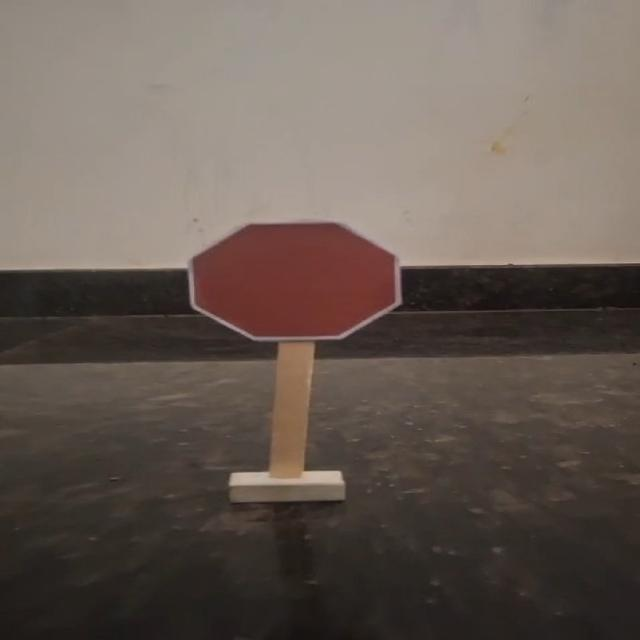Stop: (167, 214, 421, 356)
